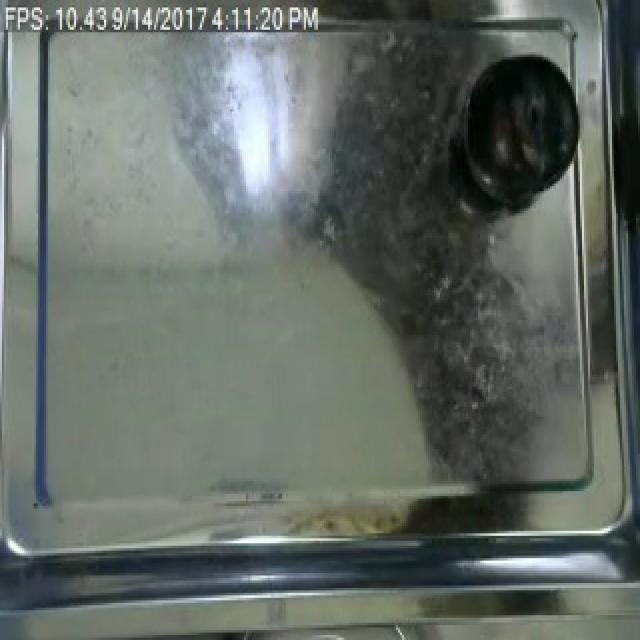Fruit: (452, 42, 586, 214)
